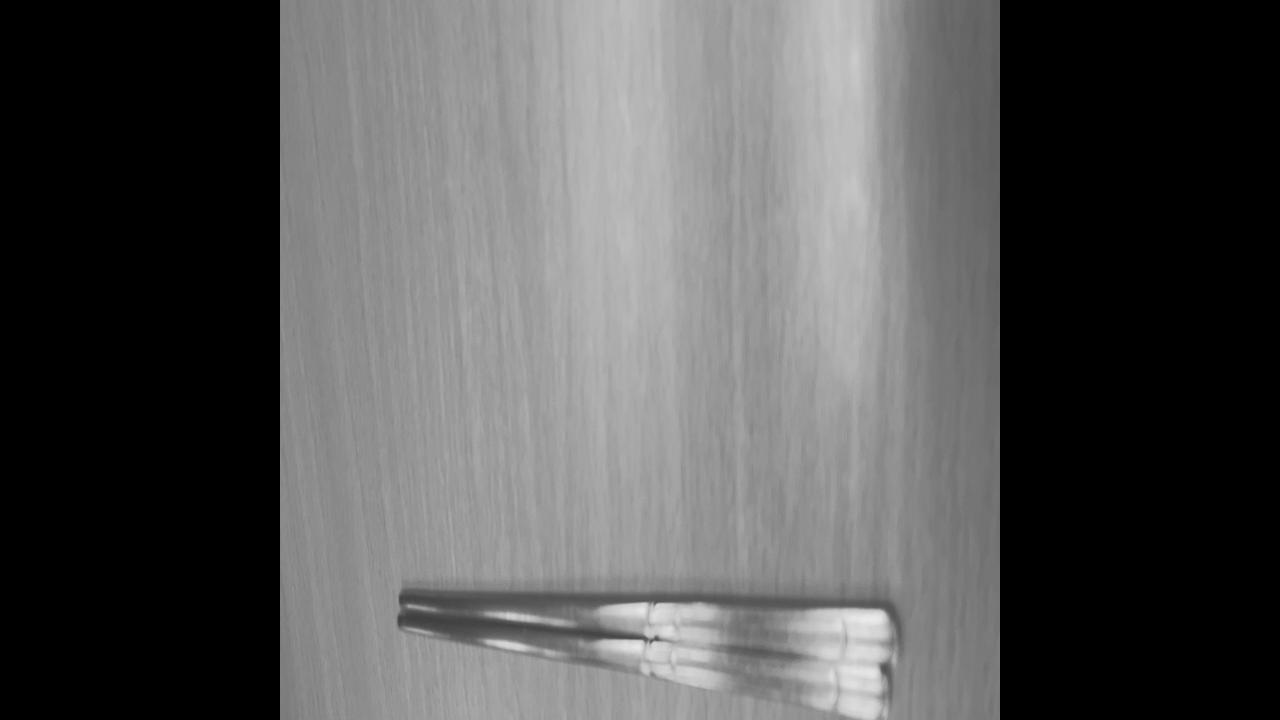chopstick: (399, 591, 898, 720)
